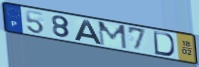5: (24, 9, 46, 35)
7: (127, 26, 148, 53)
8: (51, 15, 72, 39)
A: (73, 18, 103, 45)
D: (153, 30, 177, 57)
M: (97, 21, 129, 51)
